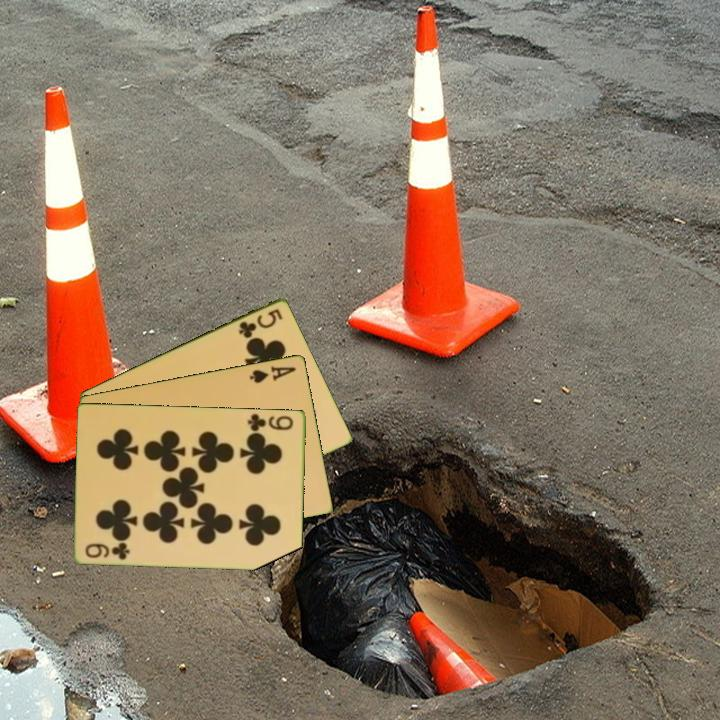5c: (235, 305, 285, 341)
9c: (244, 410, 296, 434), (82, 539, 133, 562)
As: (246, 362, 299, 386)
